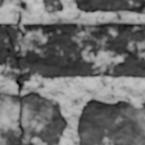brick: (78, 100, 144, 144), (76, 0, 144, 13)
broken_brick: (19, 23, 144, 82), (0, 92, 68, 144), (0, 0, 64, 14), (0, 23, 19, 70), (0, 46, 18, 80)
crack: (0, 2, 27, 142)
